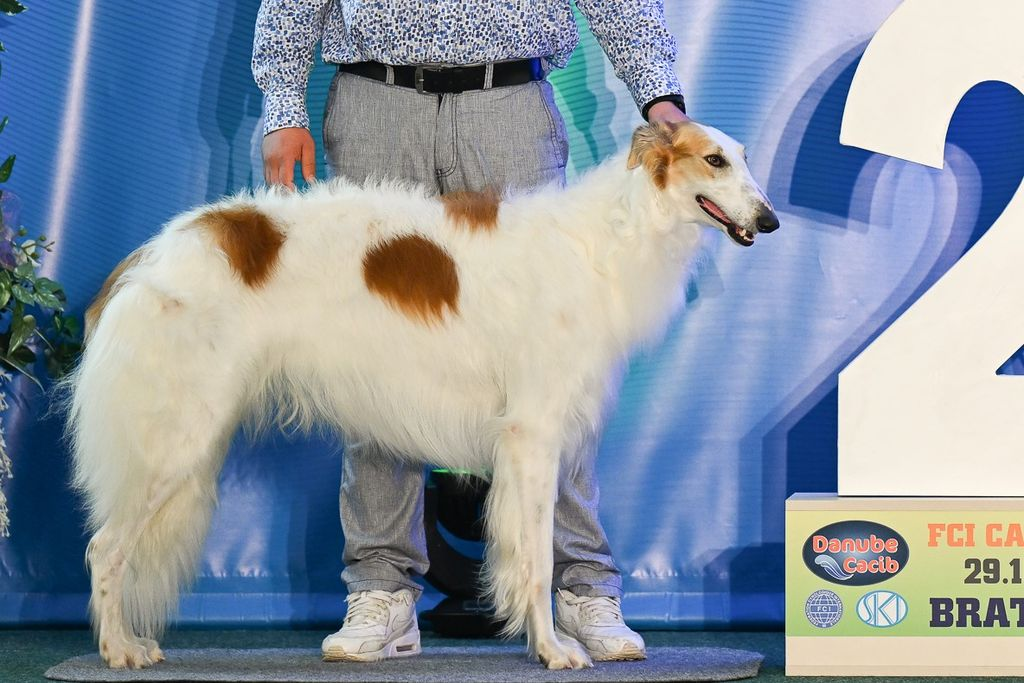borzoi: (52, 114, 828, 674)
